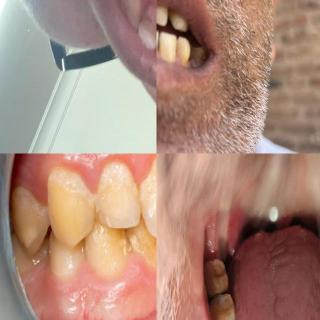Gum Swelling: (36, 154, 156, 208), (43, 252, 156, 295)
plaque: (93, 162, 139, 232), (48, 164, 90, 232), (90, 222, 126, 274), (12, 183, 49, 232), (127, 219, 157, 272), (140, 162, 156, 232)
stains: (176, 41, 190, 67)
